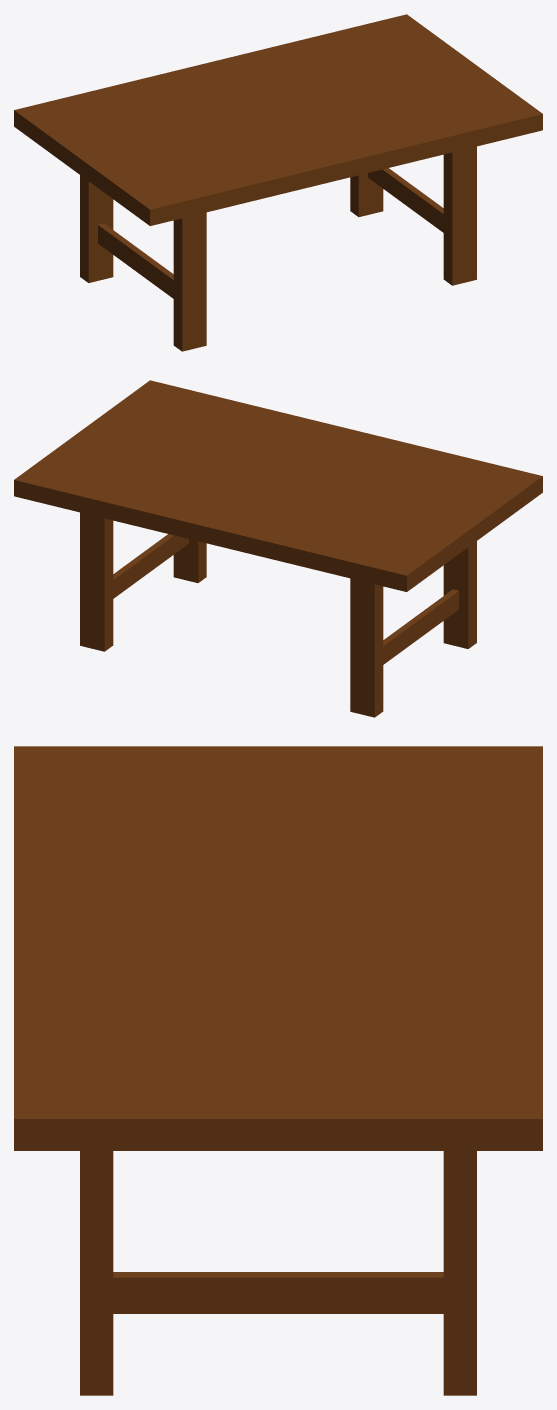
The model's file is Meja.fbx.
3 renders of one model, top to bottom at view 1: azimuth 30°, elevation 25°; view 2: azimuth 150°, elevation 25°; view 3: azimuth 270°, elevation 25°, orthographic. The views are drawn at different scales.
Visible parts, largest first — view 1: Cube; view 2: Cube; view 3: Cube.
Part boxes in pixels (x1=…): Cube: x1=14, y1=14, x2=542, y2=351; Cube: x1=14, y1=380, x2=542, y2=717; Cube: x1=14, y1=746, x2=542, y2=1395.
Size of the model in its own units: 1000 by 405 by 600.
